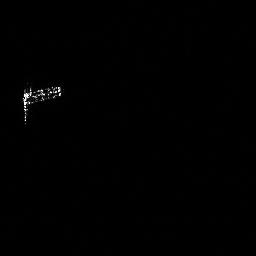ship: (23, 84, 61, 105)
